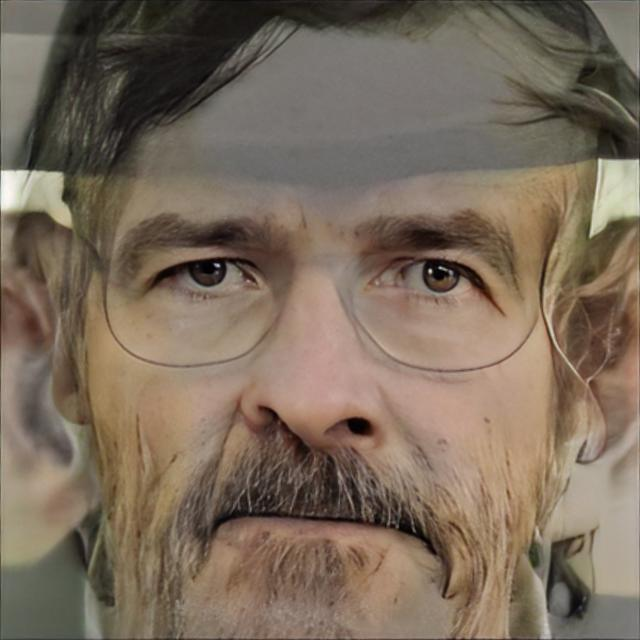content: (89, 35, 558, 624)
